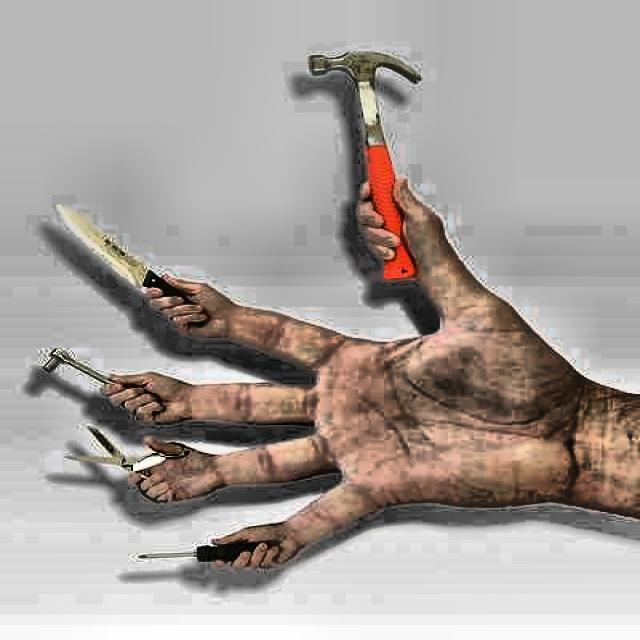hammer: (304, 46, 430, 286)
